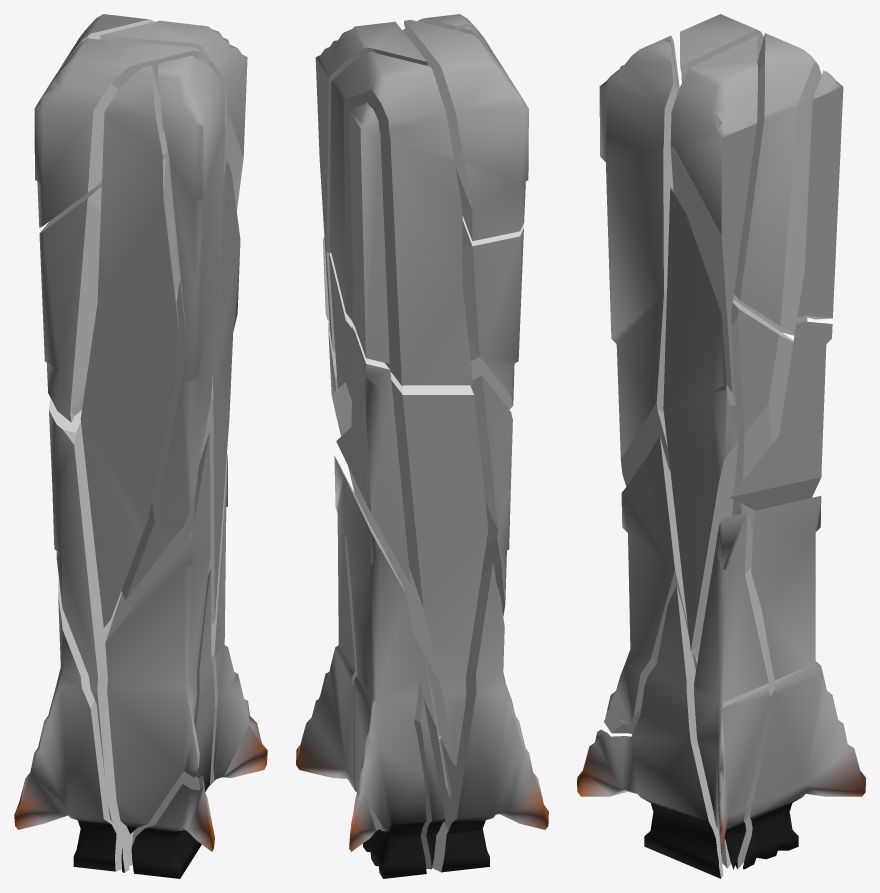
File: Missiles and bombs.glb
3 renders of one model, left to right at view 1: azimuth 30°, elevation 25°; view 2: azimuth 150°, elevation 25°; view 3: azimuth 270°, elevation 25°, orthographic.
Parts seen in each view (by area): view 1: Root.018, Root.013, Root.007, Root, Root.015, Root.004, Root.009, Root.002, Root.003, Root.014, Root.012, Root.019; view 2: Root.019, Root.008, Root.001, Root, Root.015, Root.012, Root.004, Root.005, Root.016, Root.009, Root.014, Root.003 (+1 smaller); view 3: Root.007, Root.001, Root.003, Root.012, Root.002, Root.019, Root.014, Root.013, Root.005, Root.008, Root.016, Root.015.
Boxes of the visible parts, <box> form: Root.018: <box>80,65,180,627</box>; Root.013: <box>105,431,210,833</box>; Root.007: <box>121,55,225,599</box>; Root: <box>14,577,133,871</box>; Root.015: <box>34,38,200,227</box>; Root.004: <box>39,158,166,422</box>; Root.009: <box>49,397,121,779</box>; Root.002: <box>131,568,214,878</box>; Root.003: <box>200,160,240,624</box>; Root.014: <box>100,20,247,301</box>; Root.012: <box>208,454,267,787</box>; Root.019: <box>58,14,154,190</box>; Root.019: <box>329,51,473,385</box>; Root.008: <box>329,252,488,766</box>; Root.001: <box>346,481,426,878</box>; Root: <box>423,562,548,872</box>; Root.015: <box>404,20,528,241</box>; Root.012: <box>296,456,445,869</box>; Root.004: <box>462,216,523,409</box>; Root.005: <box>336,327,410,583</box>; Root.016: <box>349,102,389,363</box>; Root.009: <box>470,375,512,616</box>; Root.014: <box>315,21,427,351</box>; Root.003: <box>323,237,386,554</box>; Root.007: <box>599,40,678,485</box>; Root.001: <box>743,496,865,869</box>; Root.003: <box>663,187,738,658</box>; Root.012: <box>694,512,775,869</box>; Root.002: <box>577,585,723,878</box>; Root.019: <box>733,33,821,335</box>; Root.014: <box>670,36,757,405</box>; Root.013: <box>604,436,697,733</box>; Root.005: <box>730,321,832,510</box>; Root.008: <box>730,300,793,532</box>; Root.016: <box>797,70,843,319</box>; Root.015: <box>680,14,763,82</box>.
Bounding box in the file's own units: 1.19 × 3.63 × 1.19.
